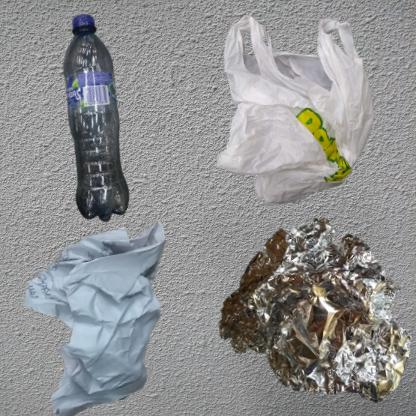aluminio: (213, 213, 416, 412)
bolsa: (213, 10, 383, 216)
botella: (10, 10, 213, 269)
papel: (10, 213, 206, 416)
